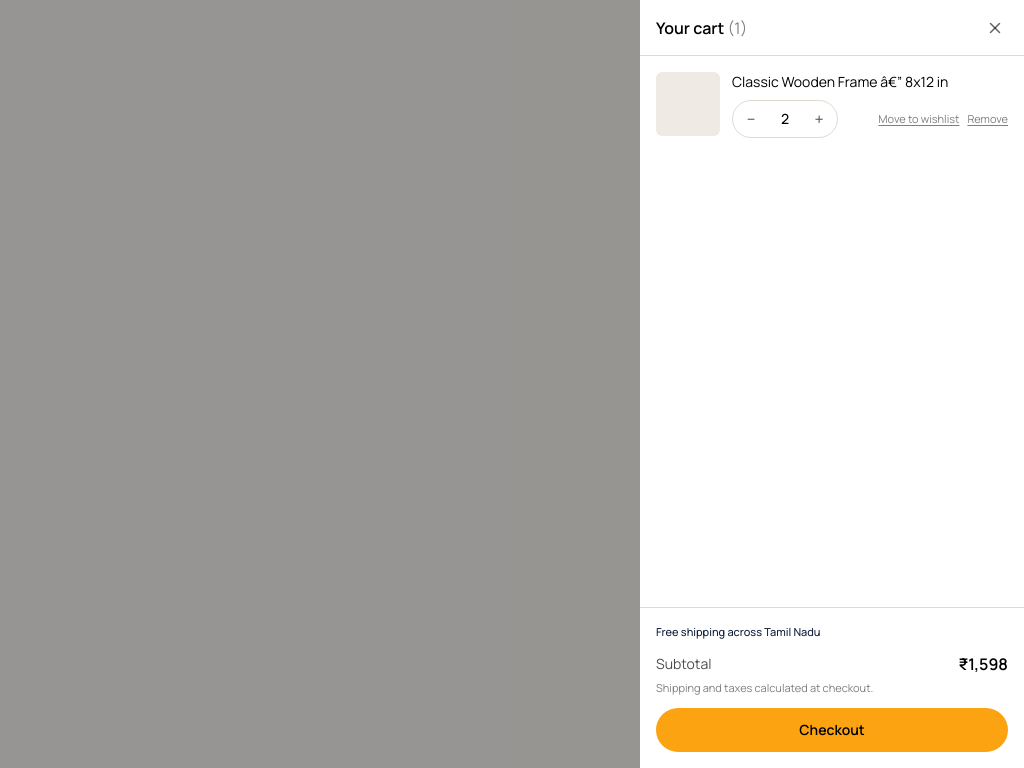
Scenario: CartDrawer — move to wishlist › resolves the variant's product, adds it to the wishlist, and removes the cart line
The width and height of the screenshot is (1024, 768).
Click the button "Move to wishlist".
click(919, 119)  # box [878,111,960,127]
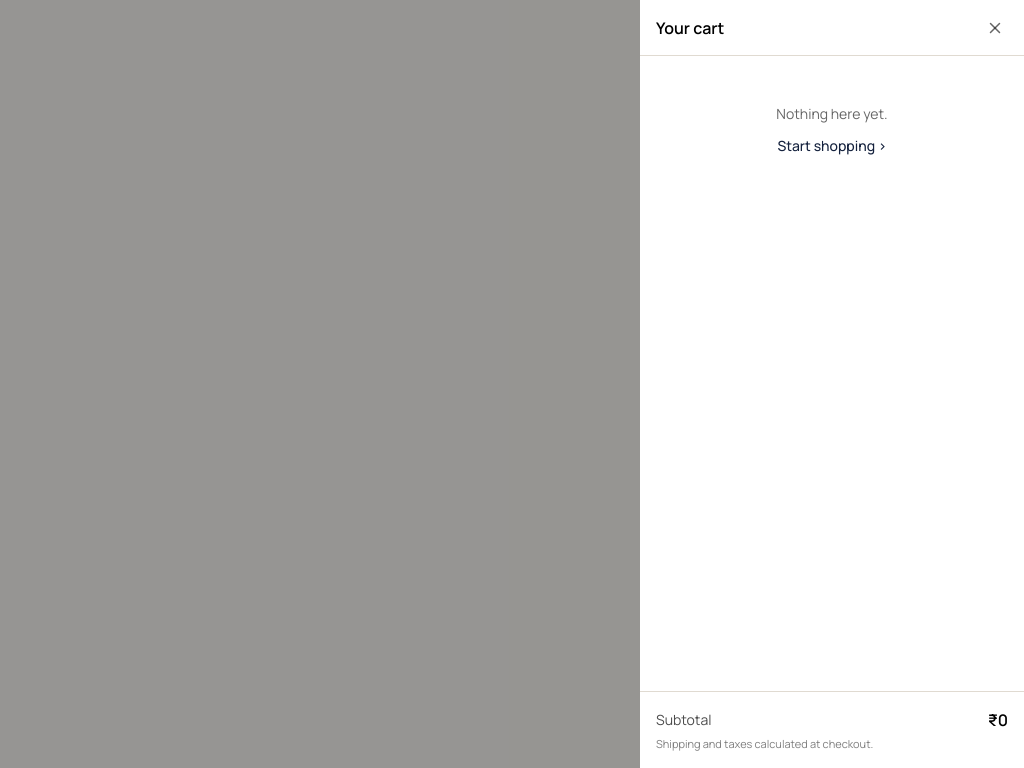
Result: the text "Nothing here yet." is shown at [776,104,888,123]
